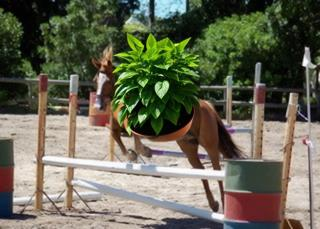horse: (87, 40, 247, 216)
pottedplant: (112, 32, 199, 135)
